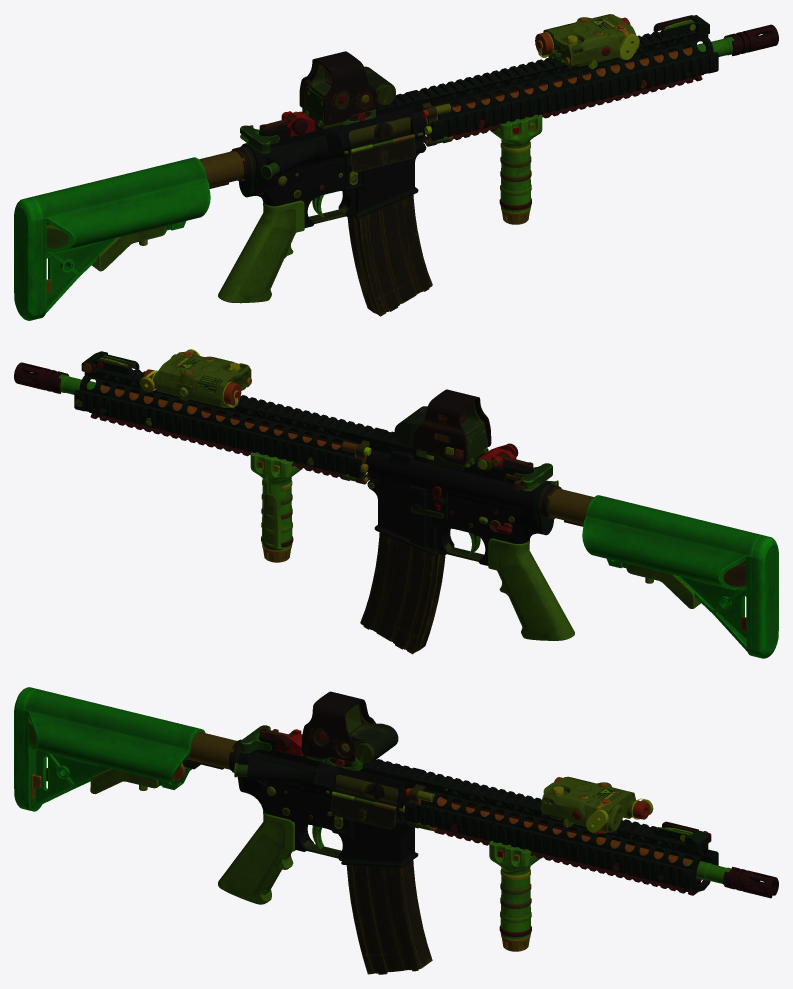
The picture shows the model from 3 angles, top to bottom: view 1: azimuth 30°, elevation 25°; view 2: azimuth 150°, elevation 25°; view 3: azimuth 330°, elevation 25°; orthographic projection.
Parts seen in each view (by area): view 1: part_1_low_lambert1_0; view 2: part_1_low_lambert1_0; view 3: part_1_low_lambert1_0.
Boxes of the visible parts, bbox=[...] form: part_1_low_lambert1_0: bbox=[14, 14, 778, 320]; part_1_low_lambert1_0: bbox=[14, 349, 778, 658]; part_1_low_lambert1_0: bbox=[14, 687, 778, 974].
Size of the model in its own units: 4 by 1.32 by 0.3397.
Materials: 5 (5 with a texture image).
